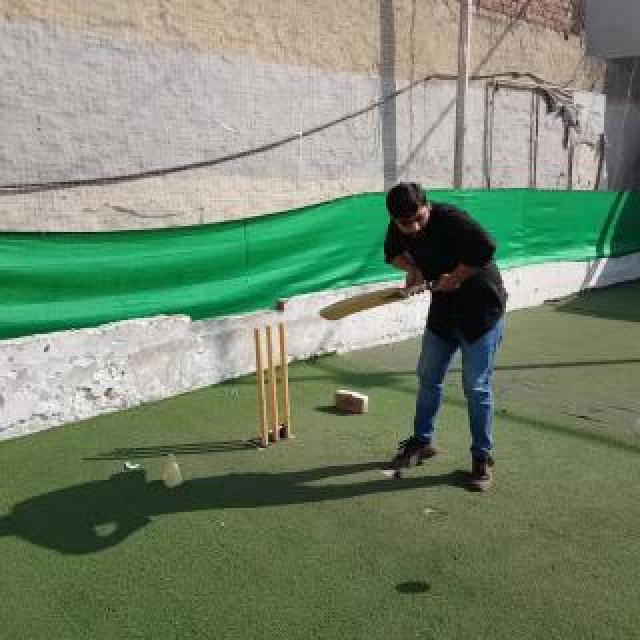bat: (319, 279, 441, 321)
